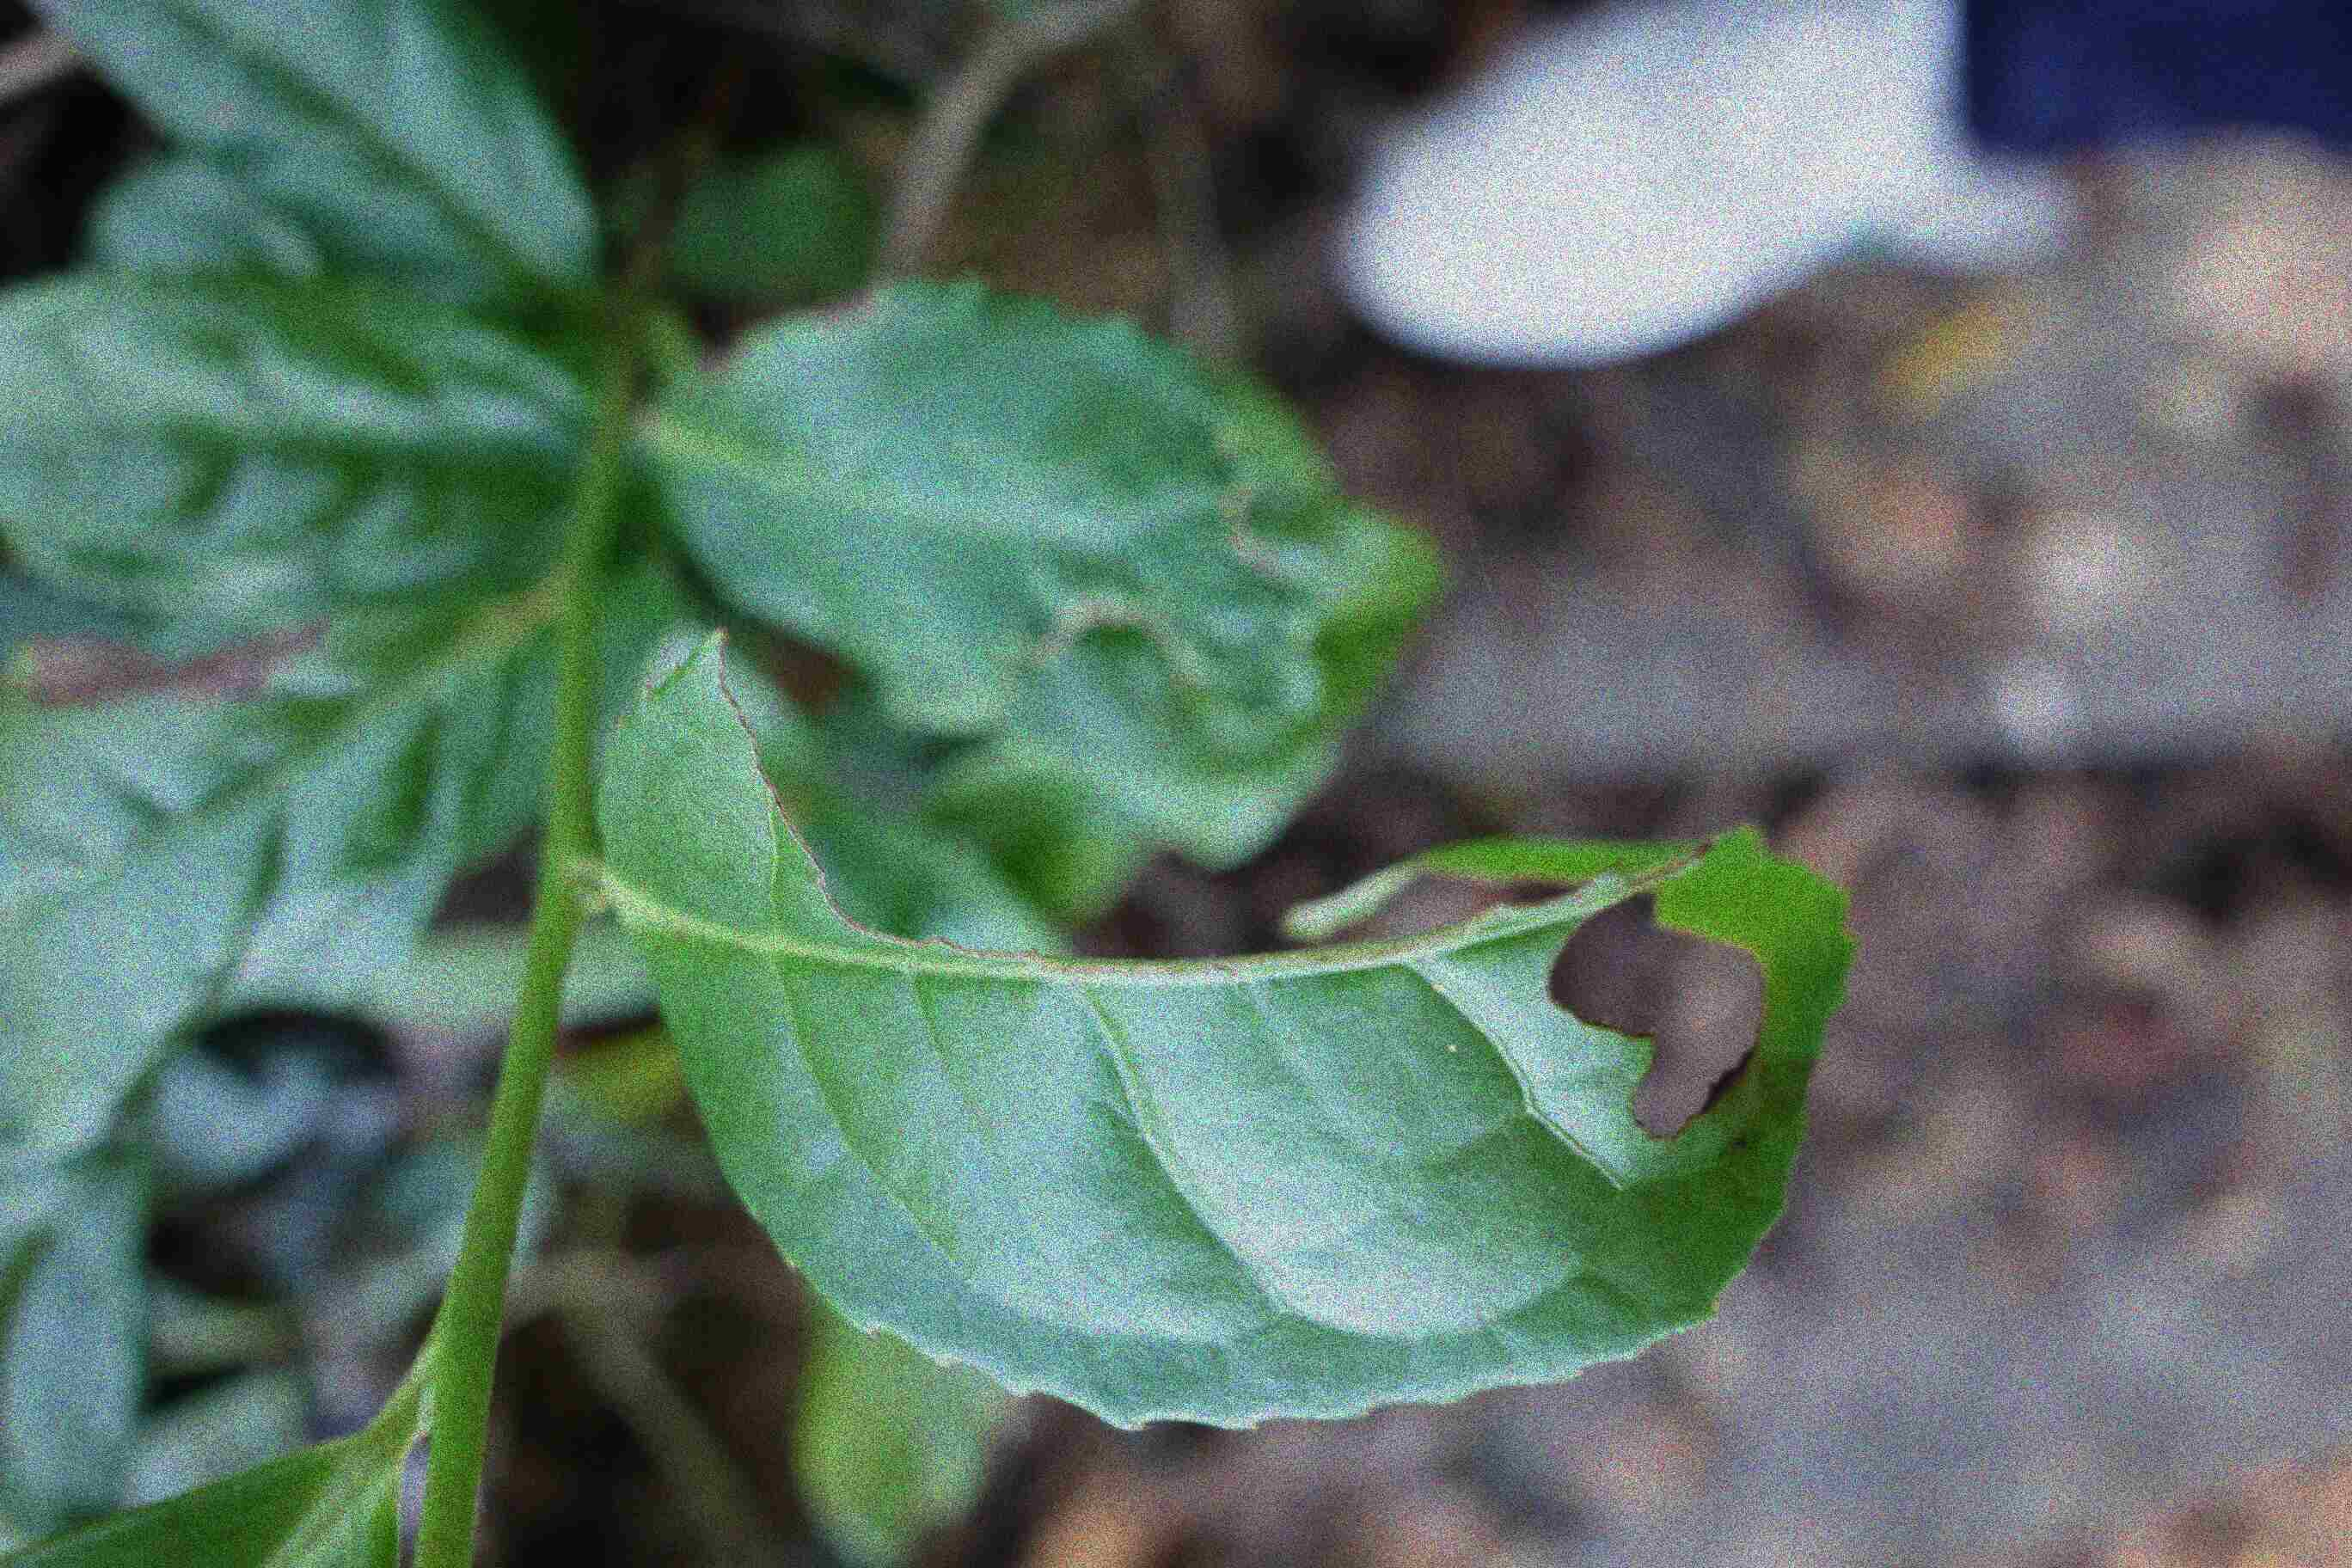chihuo_high: (598, 621, 1855, 1435)
